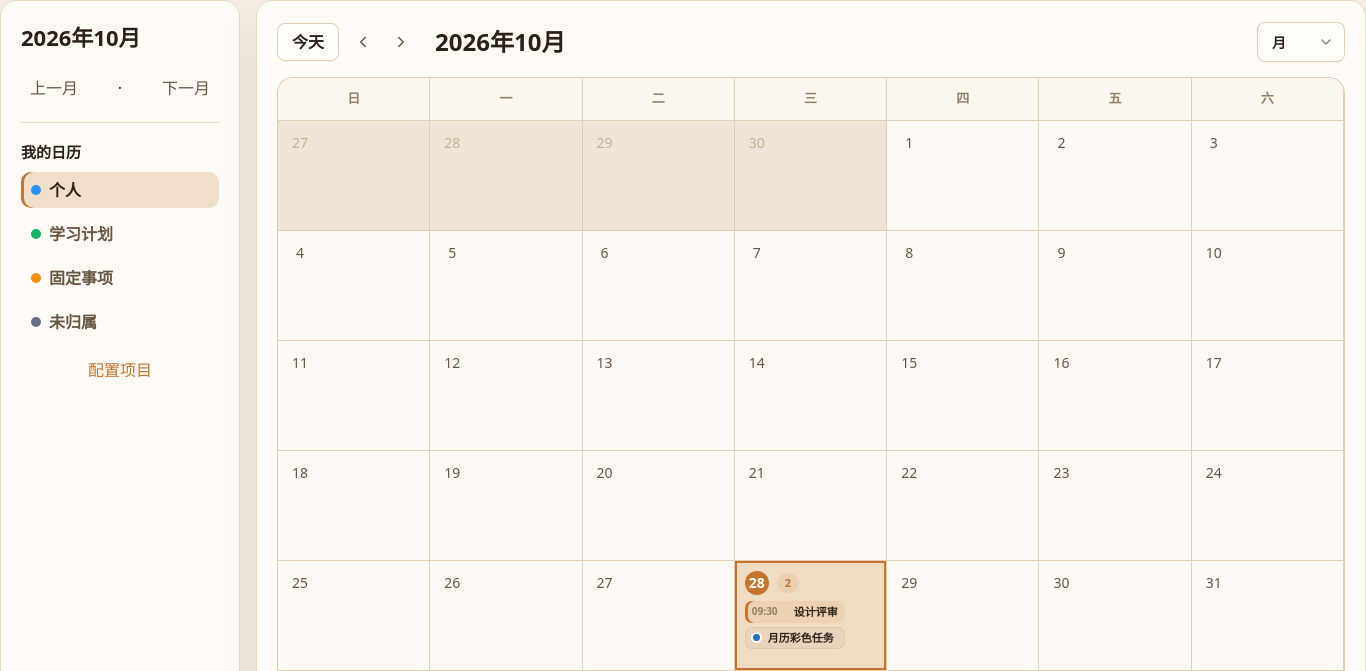
Calendar today task flow › switches calendar views from the Google-style calendar toolbar
The image size is (1366, 671).
Expected: the number of buttons "今天" is 1, [277,23,339,61]
Select "周" in the dropdown named "日历视图": (1301, 42) [1257,22,1345,62]
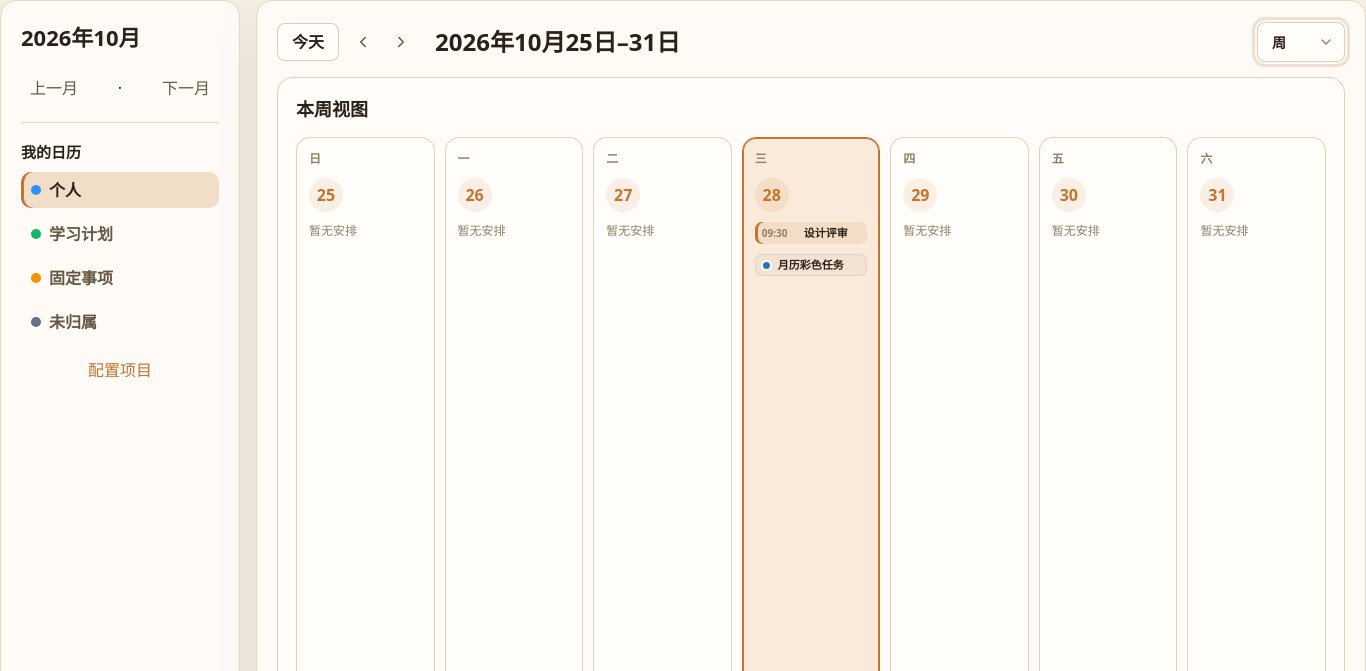
Expected: the button named "上一周" is shown, [345,24,381,60]
Expected: the heading "本周视图" is shown, [296,97,368,121]
Select "日" in the dropdown named "日历视图": (1301, 42) [1257,22,1345,62]
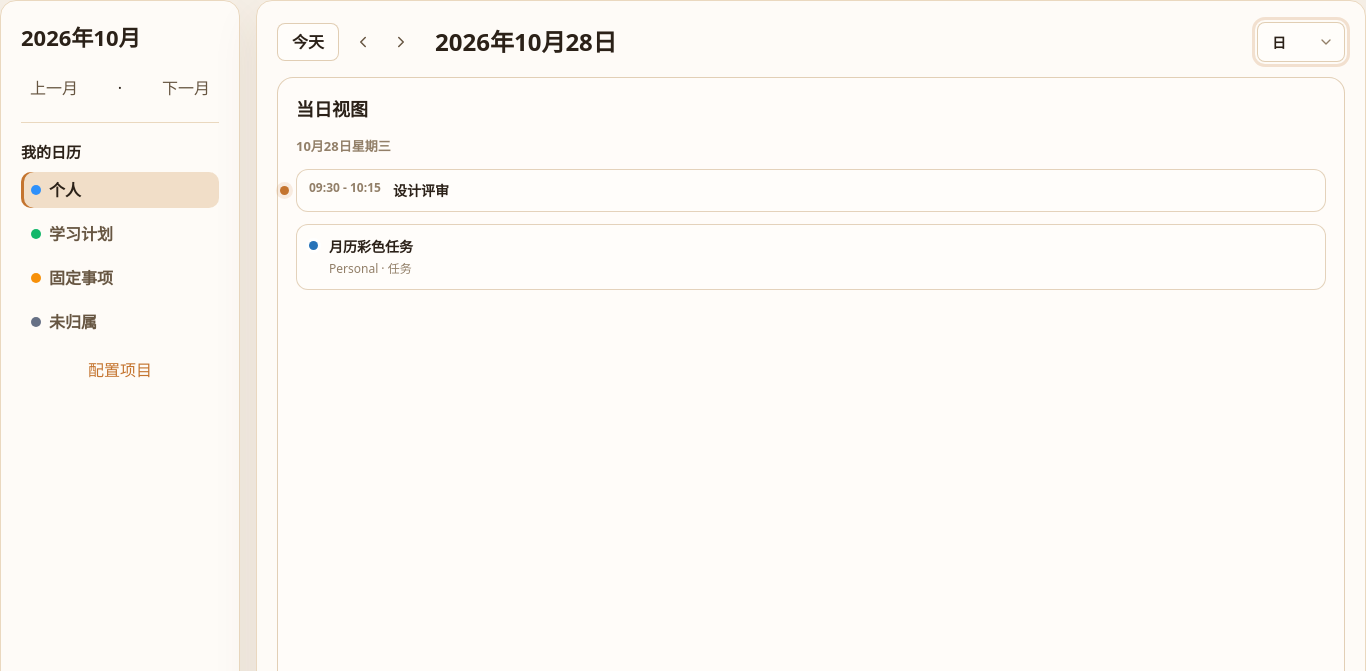
Expected: the button named "前一天" is shown, [345,24,381,60]
Expected: the heading "当日视图" is shown, [296,97,368,121]
